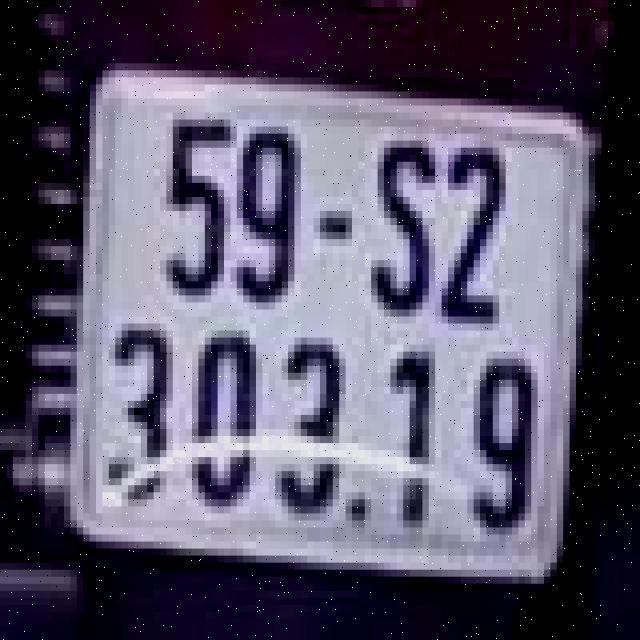0: (185, 320, 262, 510)
1: (381, 334, 438, 531)
2: (442, 134, 518, 330)
3: (99, 316, 176, 506), (275, 330, 346, 520)
5: (160, 112, 230, 302)
9: (230, 112, 308, 316), (467, 348, 538, 538)
S: (365, 123, 435, 334)
